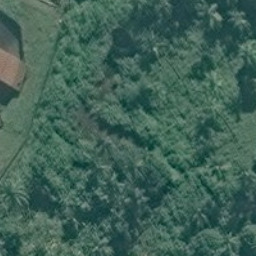buildings: (1, 51, 29, 103)
